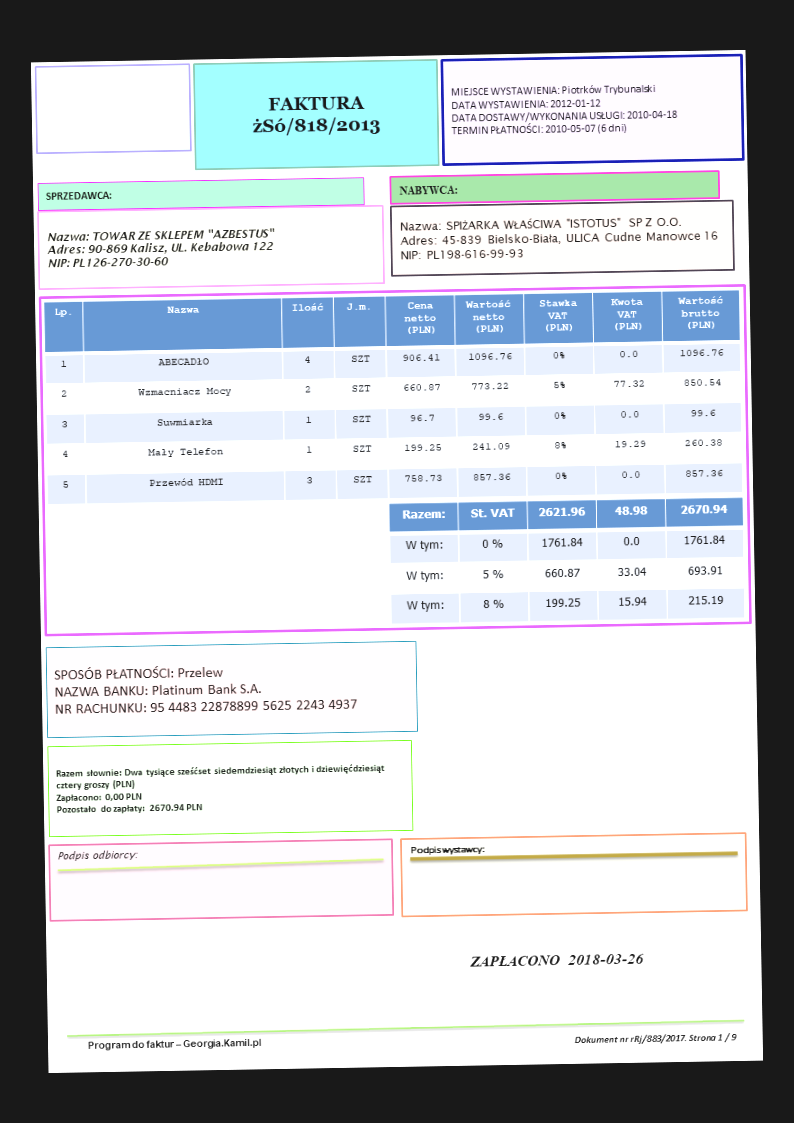Table: (42, 289, 744, 506), (387, 496, 745, 624)
TextBox: (52, 659, 360, 718), (53, 762, 387, 815), (396, 214, 720, 263), (448, 79, 679, 139), (45, 227, 276, 270), (248, 92, 383, 139), (466, 949, 646, 970), (86, 1034, 263, 1053), (573, 1030, 739, 1049), (55, 847, 140, 865), (408, 843, 485, 858), (42, 188, 113, 204), (397, 183, 459, 198)
